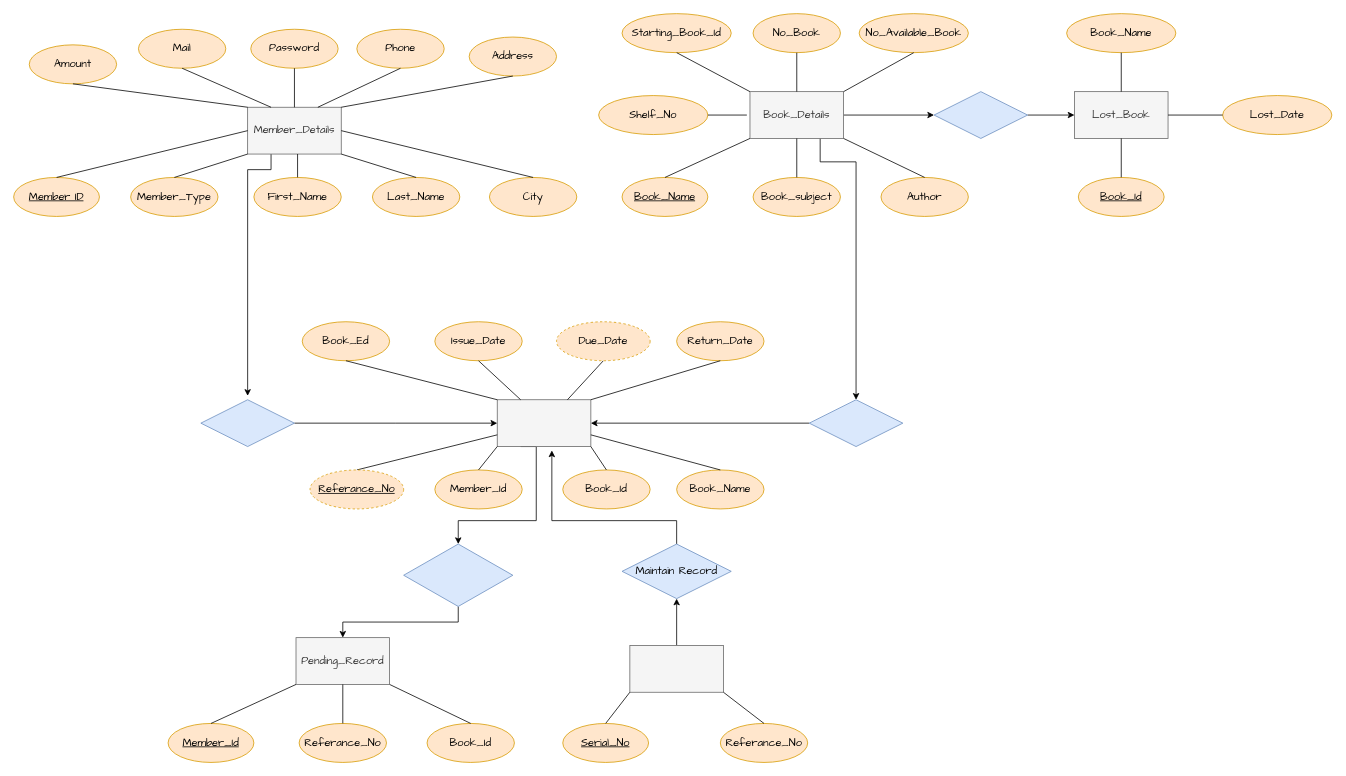
The diagram is 1346 pixels wide and 776 high, and some of its shapes have lost their labels. Here are the shapes that lost their labels. From the top down, the centre of each, then its label:
the point at 980,114: Lost
the point at 247,423: Issue
the point at 543,423: Issued_Book
the point at 855,423: Required
the point at 458,574: Not Return Data
the point at 676,668: Serial
